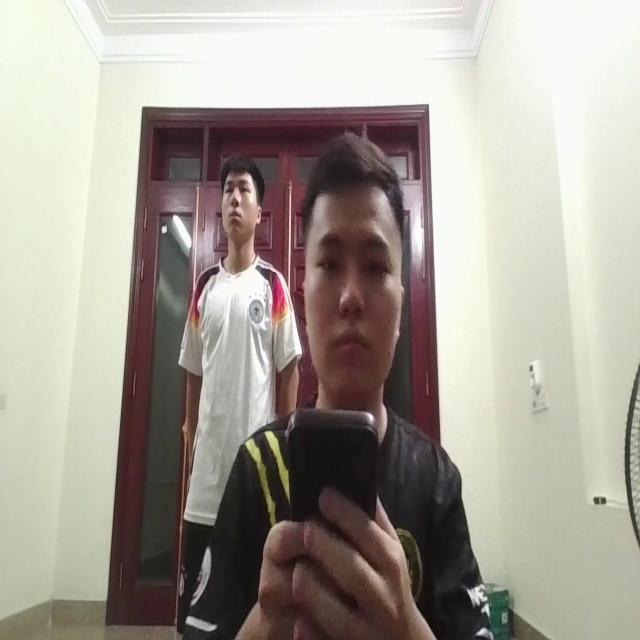extra_person: (172, 156, 296, 531)
phone: (278, 396, 382, 617)
student: (221, 130, 480, 640)
